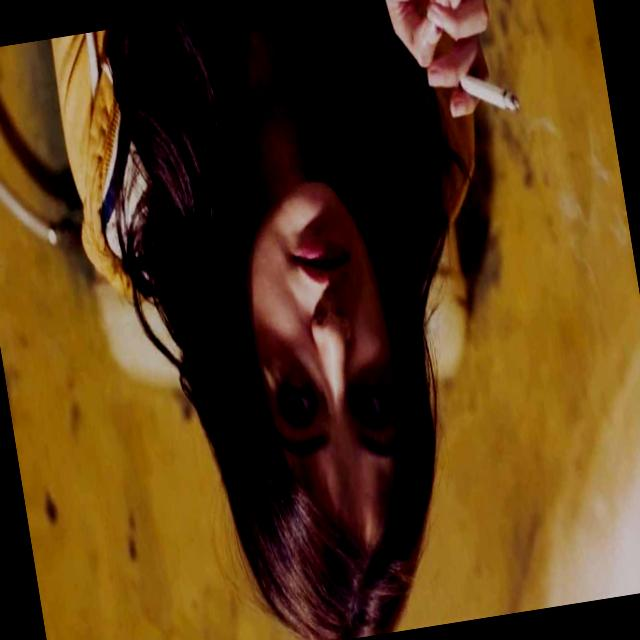smoke: (451, 57, 541, 150)
